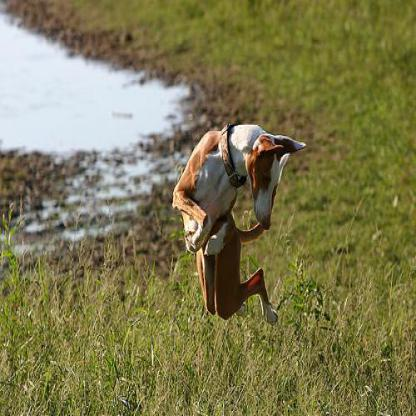dog: (165, 111, 311, 336)
